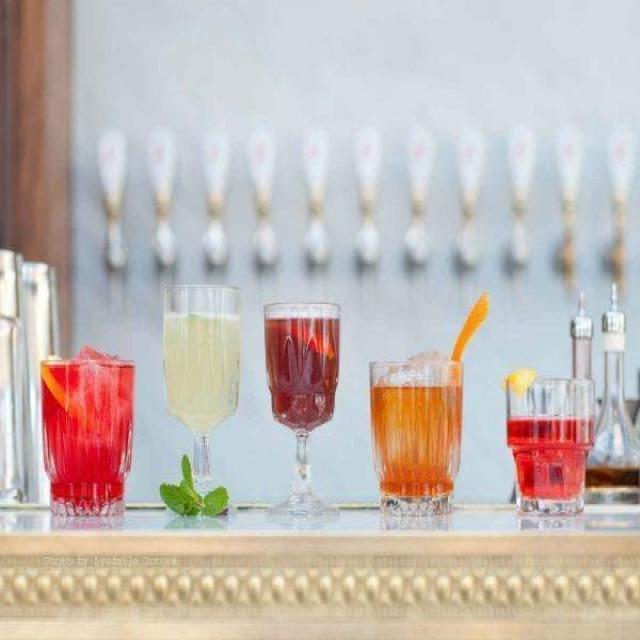glass-normal: (365, 352, 469, 523), (39, 349, 138, 526), (504, 372, 598, 522)
glass-wine: (160, 278, 245, 533), (262, 299, 342, 515)
